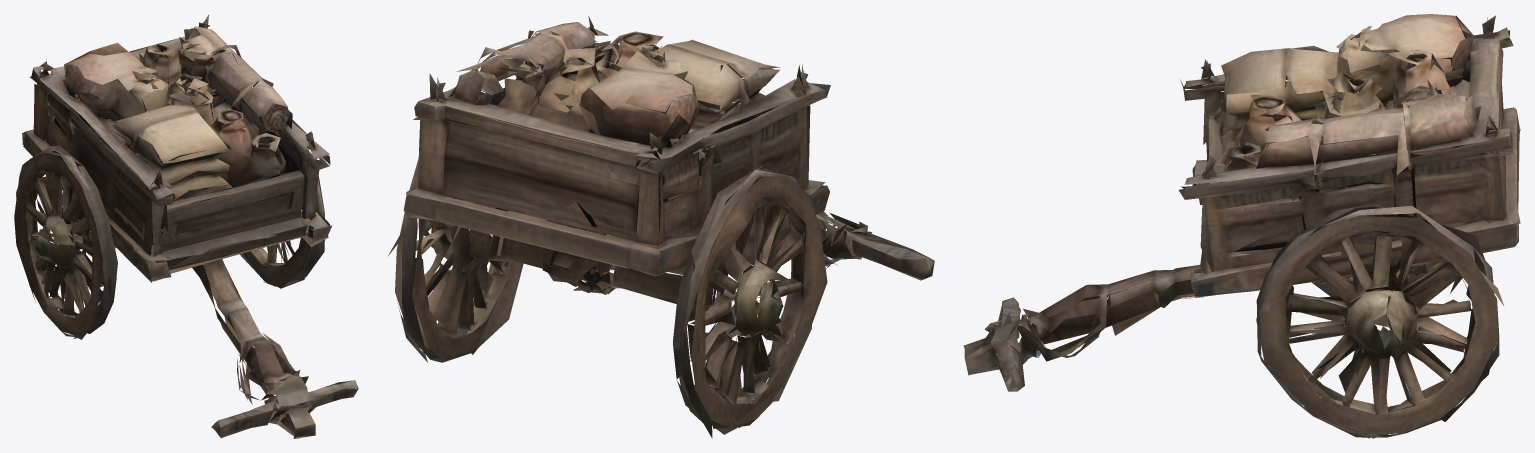
The model's file is cart.glb.
3 views of the same model, side by side, from view 1: azimuth 30°, elevation 25°; view 2: azimuth 150°, elevation 25°; view 3: azimuth 270°, elevation 25° (orthographic). The views are drawn at different scales.
Visible parts, largest first — view 1: cart; view 2: cart; view 3: cart.
Part boxes in pixels (left/top/right/bottom): cart: left=14, top=14, right=358, bottom=438; cart: left=388, top=16, right=934, bottom=438; cart: left=963, top=14, right=1520, bottom=438.
Bounding box in the file's own units: 2.81 × 2.66 × 4.01.
Materials: 1 (1 with a texture image).
